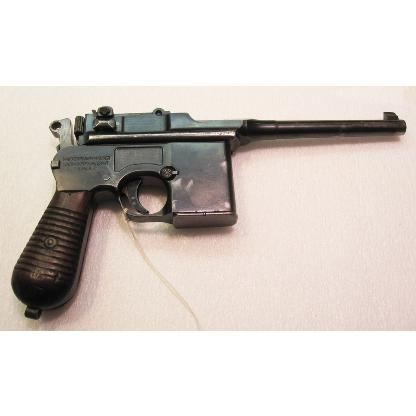gun: (12, 104, 404, 317)
